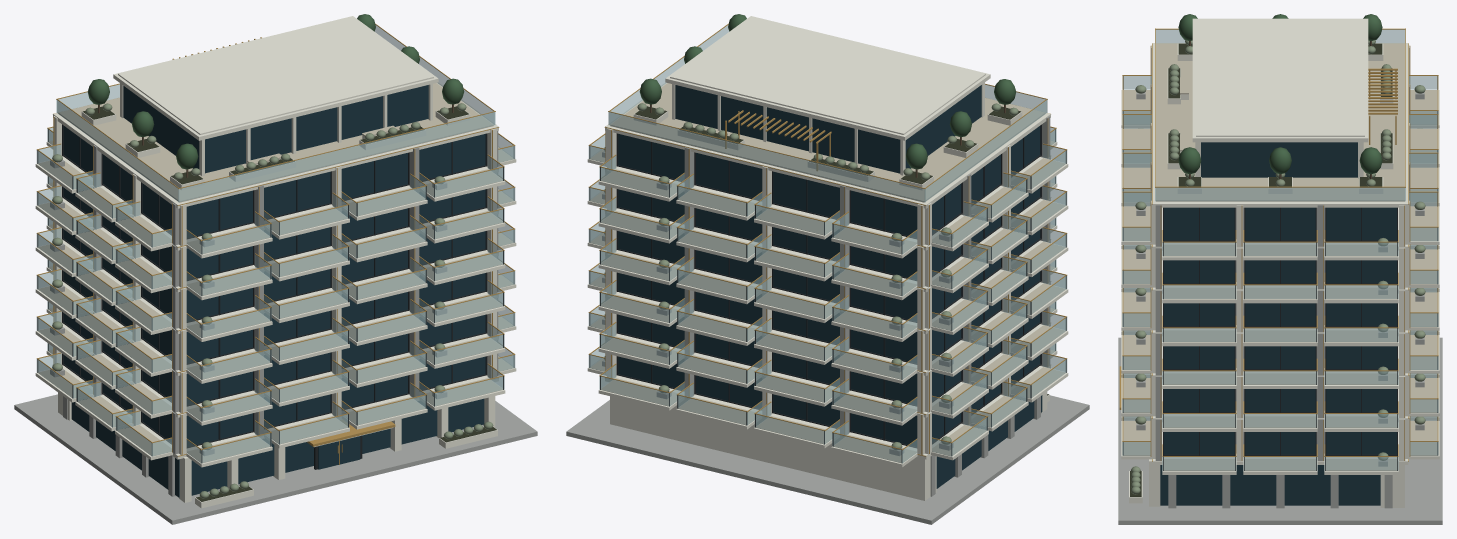
File: residence-lod0.glb
The picture shows the model from 3 angles, left to right: view 1: azimuth 30°, elevation 25°; view 2: azimuth 150°, elevation 25°; view 3: azimuth 270°, elevation 25°; orthographic projection. The views are drawn at different scales.
Parts seen in each view (by area): view 1: 0_white, 0_glazing, 0_glass, 0_paving, 0_concrete, 0_gold, 0_frame, 0_leaf, 0_foliage, 0_soil; view 2: 0_white, 0_glass, 0_glazing, 0_paving, 0_concrete, 0_gold, 0_frame, 0_leaf, 0_foliage, 0_soil; view 3: 0_white, 0_glazing, 0_paving, 0_glass, 0_concrete, 0_gold, 0_frame, 0_leaf, 0_foliage, 0_soil.
Boxes of the visible parts, x1,y1,x2,y2 form: 0_white: (35, 16, 516, 508); 0_glazing: (63, 85, 485, 497); 0_glass: (36, 25, 515, 463); 0_paving: (38, 83, 513, 463); 0_concrete: (14, 131, 537, 524); 0_gold: (36, 23, 515, 464); 0_frame: (37, 124, 514, 469); 0_leaf: (52, 103, 493, 498); 0_foliage: (87, 14, 464, 169); 0_soil: (82, 106, 496, 501); 0_white: (587, 16, 1068, 500); 0_glass: (588, 25, 1067, 463); 0_glazing: (618, 85, 1042, 488); 0_paving: (590, 83, 1065, 463); 0_concrete: (566, 116, 1089, 524); 0_gold: (588, 23, 1067, 456); 0_frame: (589, 124, 1066, 463); 0_leaf: (604, 103, 1018, 449); 0_foliage: (639, 14, 1016, 169); 0_soil: (635, 106, 1048, 395); 0_white: (1121, 18, 1439, 507); 0_glazing: (1160, 142, 1396, 505); 0_paving: (1123, 43, 1437, 470); 0_glass: (1122, 29, 1438, 470); 0_concrete: (1118, 84, 1442, 524); 0_gold: (1119, 28, 1438, 461); 0_frame: (1122, 76, 1438, 470); 0_leaf: (1131, 40, 1425, 494); 0_foliage: (1178, 14, 1382, 174); 0_soil: (1130, 43, 1392, 496).
Size of the model in its own units: 32 by 29.09 by 24.
